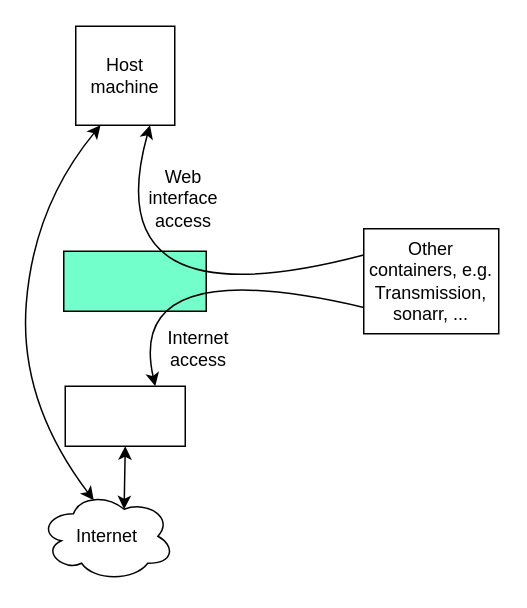
Some shapes in this 527 by 608 pixel diagram are drawn without their labels. The shapes that lost their labels are listed below. From the top down, each one's centre as x and y in pixels, then its label:
At (x=134, y=280): "This container".
At (x=124, y=415): "VPN provider".
